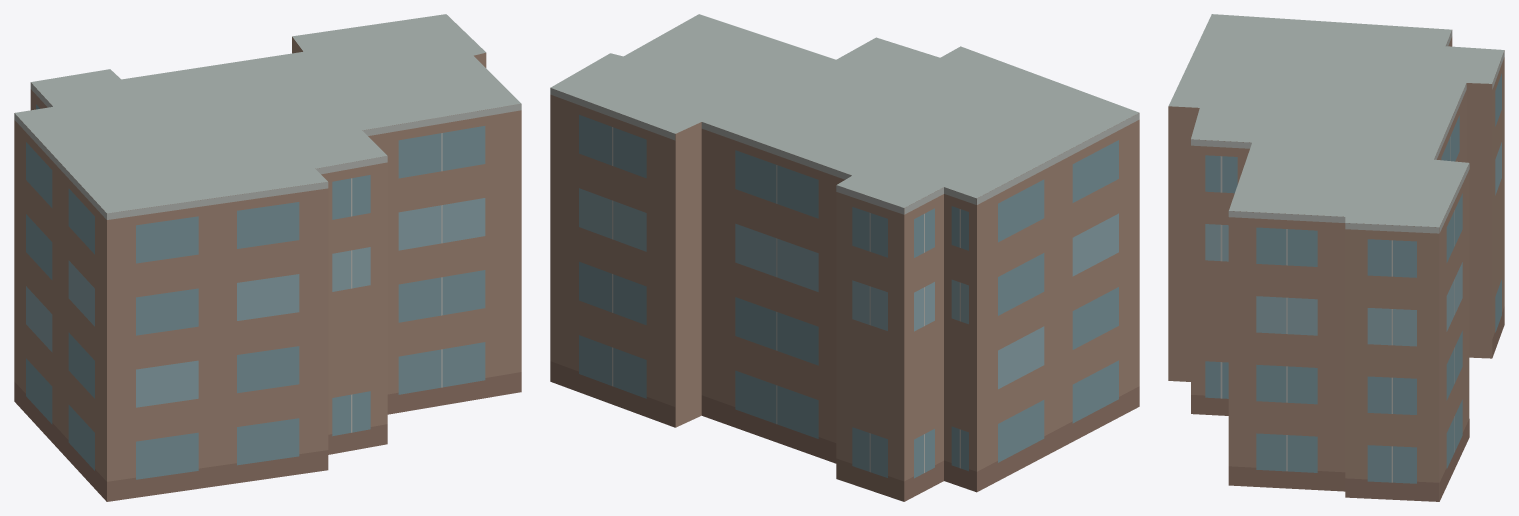
Rendered from survey-upis-32824759.glb.
The picture shows the model from 3 angles, left to right: view 1: azimuth 30°, elevation 25°; view 2: azimuth 150°, elevation 25°; view 3: azimuth 270°, elevation 25°; orthographic projection. The views are drawn at different scales.
Parts seen in each view (by area): view 1: survey-upis-32824759.tmp; view 2: survey-upis-32824759.tmp; view 3: survey-upis-32824759.tmp.
Part boxes in pixels (x1,y1,x2,y2): survey-upis-32824759.tmp: [14, 14, 521, 501]; survey-upis-32824759.tmp: [550, 14, 1139, 501]; survey-upis-32824759.tmp: [1168, 14, 1504, 501].
Bounding box in the file's own units: 17.66 × 10.6 × 11.77.
